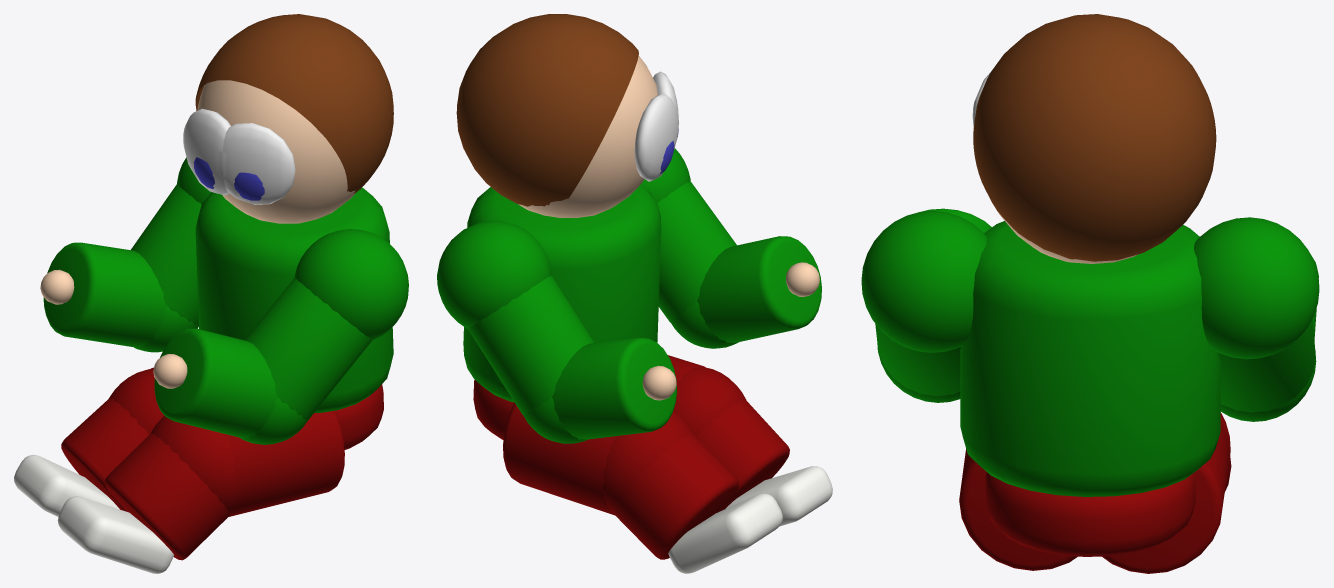
3 views of the same model, side by side, from view 1: azimuth 30°, elevation 25°; view 2: azimuth 150°, elevation 25°; view 3: azimuth 270°, elevation 25° (orthographic). The views are drawn at different scales.
Parts seen in each view (by area): view 1: hair, torso, farm_n, farm_f, uarm_n, head, shoulder_ball_n, shin_n, thigh_n, uarm_f, shoe_n, shin_f (+12 smaller); view 2: hair, torso, farm_n, farm_f, uarm_f, shin_f, shoulder_ball_f, thigh_f, uarm_n, head, shoe_f, shin_n (+11 smaller); view 3: torso, hair, shoulder_ball_f, shoulder_ball_n, pelvis, uarm_f, thigh_f, thigh_n, uarm_n, elbow_ball_f.
Boxes of the visible parts, x1=… form: hair: x1=195, y1=14, x2=393, y2=193; torso: x1=195, y1=187, x2=393, y2=412; farm_n: x1=154, y1=328, x2=277, y2=437; farm_f: x1=43, y1=242, x2=166, y2=347; uarm_n: x1=245, y1=278, x2=372, y2=420; head: x1=197, y1=80, x2=355, y2=223; shoulder_ball_n: x1=294, y1=229, x2=408, y2=340; shin_n: x1=104, y1=432, x2=229, y2=560; thigh_n: x1=226, y1=410, x2=344, y2=516; uarm_f: x1=131, y1=184, x2=201, y2=325; shoe_n: x1=57, y1=496, x2=173, y2=573; shin_f: x1=61, y1=397, x2=148, y2=511; hair: x1=456, y1=14, x2=638, y2=206; torso: x1=463, y1=184, x2=661, y2=402; farm_n: x1=697, y1=236, x2=821, y2=342; farm_f: x1=552, y1=338, x2=676, y2=439; uarm_f: x1=467, y1=275, x2=594, y2=415; shin_f: x1=613, y1=433, x2=739, y2=559; shoulder_ball_f: x1=437, y1=221, x2=551, y2=328; thigh_f: x1=503, y1=402, x2=615, y2=515; uarm_n: x1=657, y1=181, x2=736, y2=322; head: x1=518, y1=56, x2=657, y2=217; shoe_f: x1=668, y1=493, x2=782, y2=573; shin_n: x1=696, y1=399, x2=789, y2=506; torso: x1=960, y1=221, x2=1220, y2=496; hair: x1=973, y1=14, x2=1216, y2=261; shoulder_ball_f: x1=1194, y1=217, x2=1319, y2=359; shoulder_ball_n: x1=861, y1=211, x2=986, y2=352; pelvis: x1=985, y1=472, x2=1195, y2=556; uarm_f: x1=1218, y1=319, x2=1315, y2=412; thigh_f: x1=1102, y1=420, x2=1230, y2=573; thigh_n: x1=959, y1=448, x2=1077, y2=570; uarm_n: x1=875, y1=324, x2=960, y2=396; elbow_ball_f: x1=1220, y1=351, x2=1316, y2=421.
Bounding box in the file's own units: 0.7609 × 1.06 × 0.7415.
